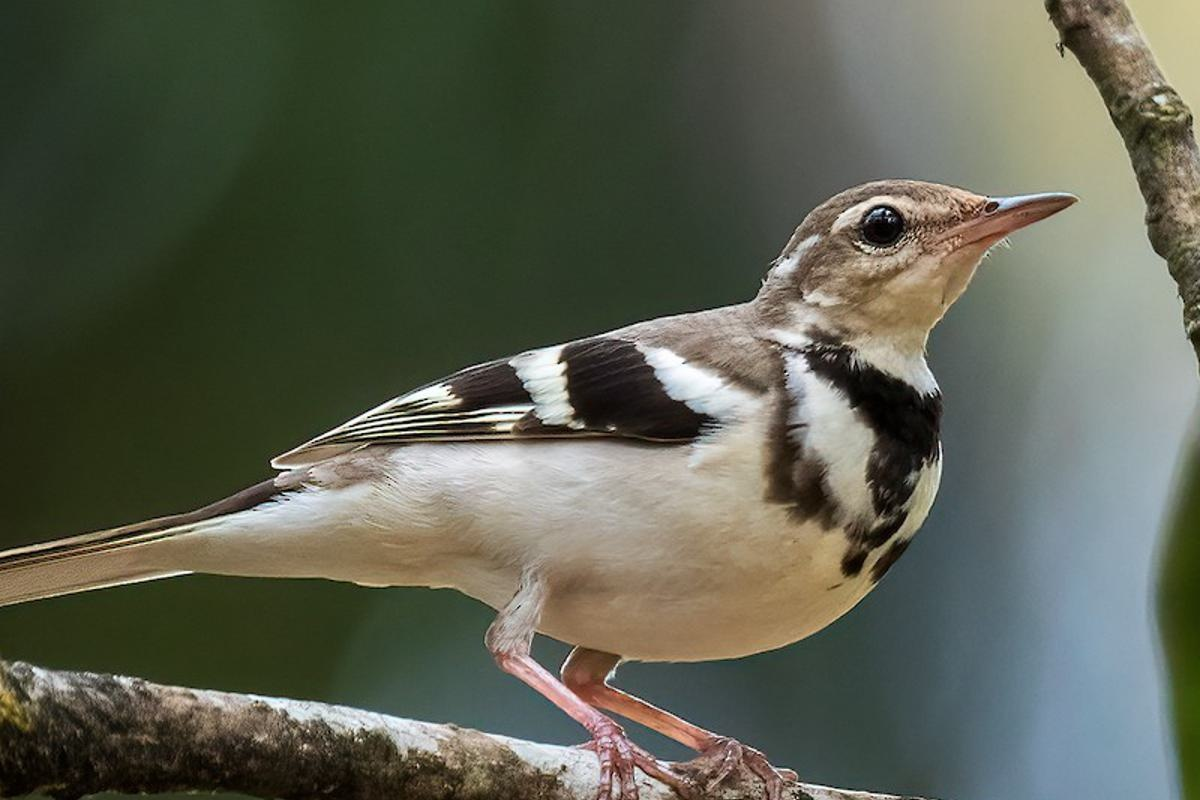wagtail: (243, 187, 1097, 733)
